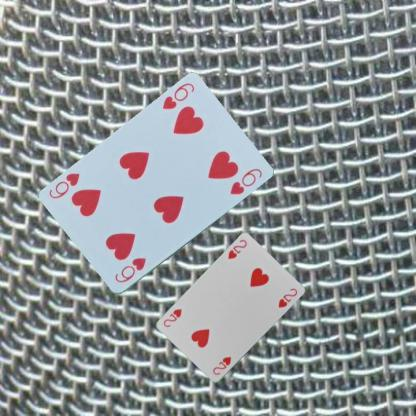2h: (210, 354, 233, 377), (226, 237, 248, 260)
6h: (159, 80, 196, 112), (112, 254, 147, 285)
